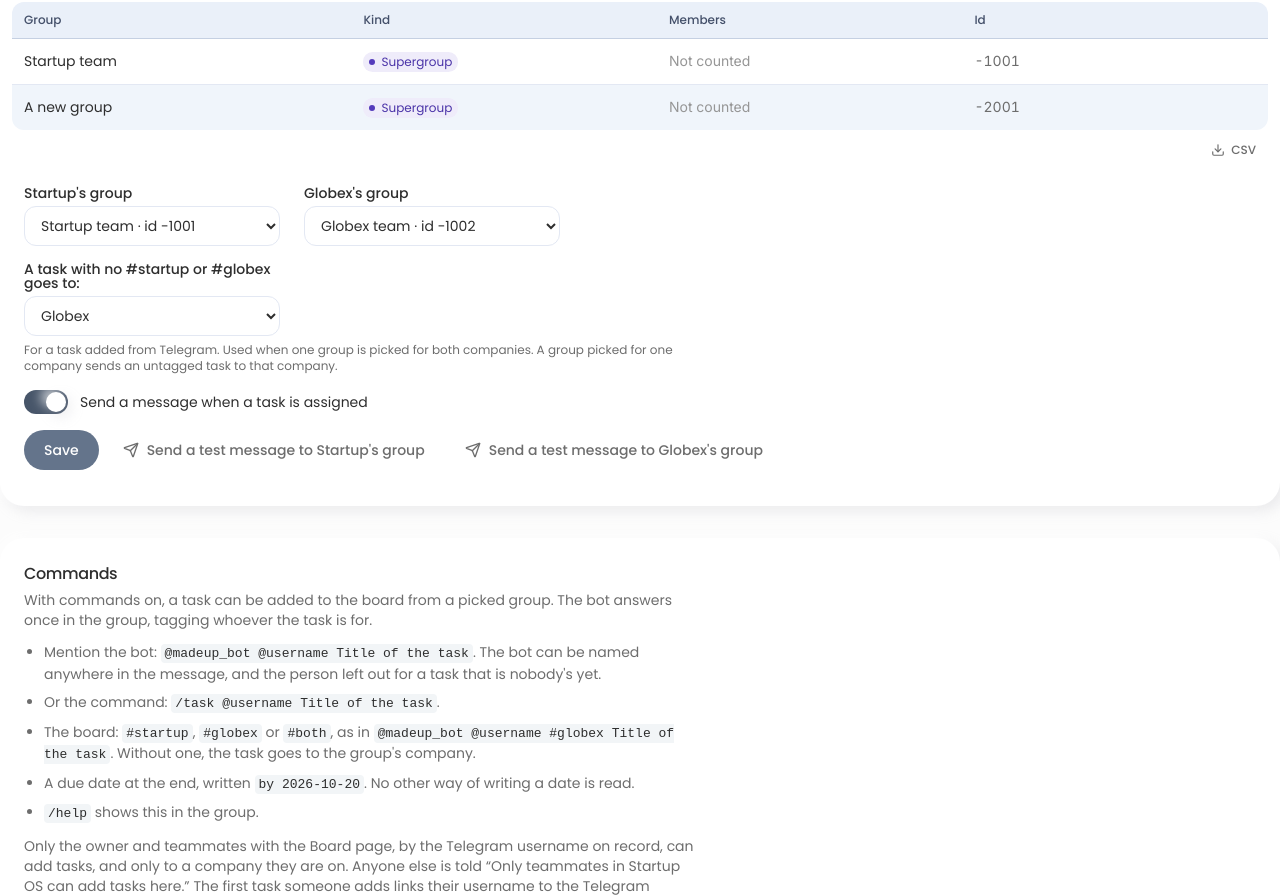
Test: the test message › a refusal to start is shown in the server's words
The image size is (1280, 896).
(page scrolled)
Click the button "Send a test message to Startup's group": coordinates (274, 450) top-left (107, 430), bottom-right (441, 470)
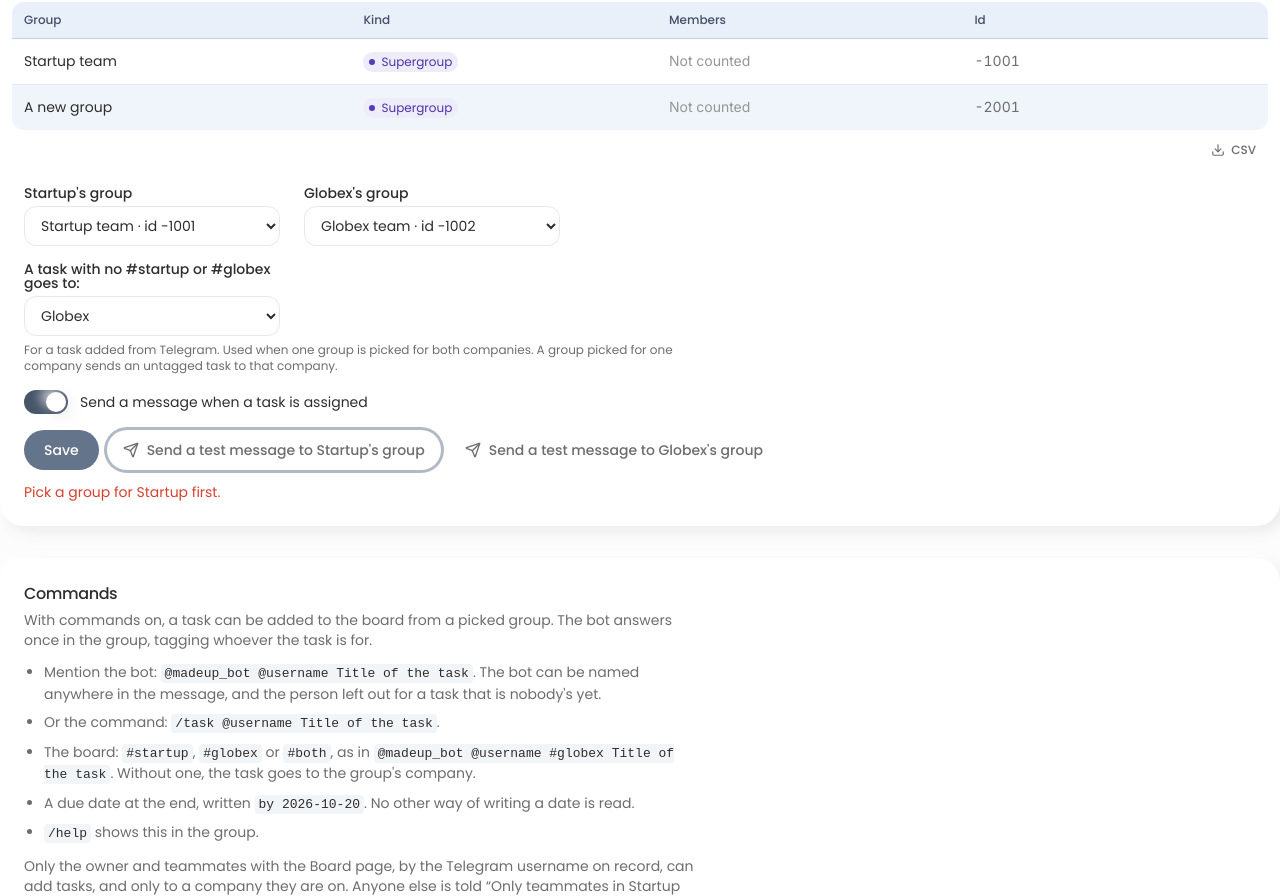
Expected: the message reads "Pick a group for Startup first.", top-left (24, 482), bottom-right (220, 502)
